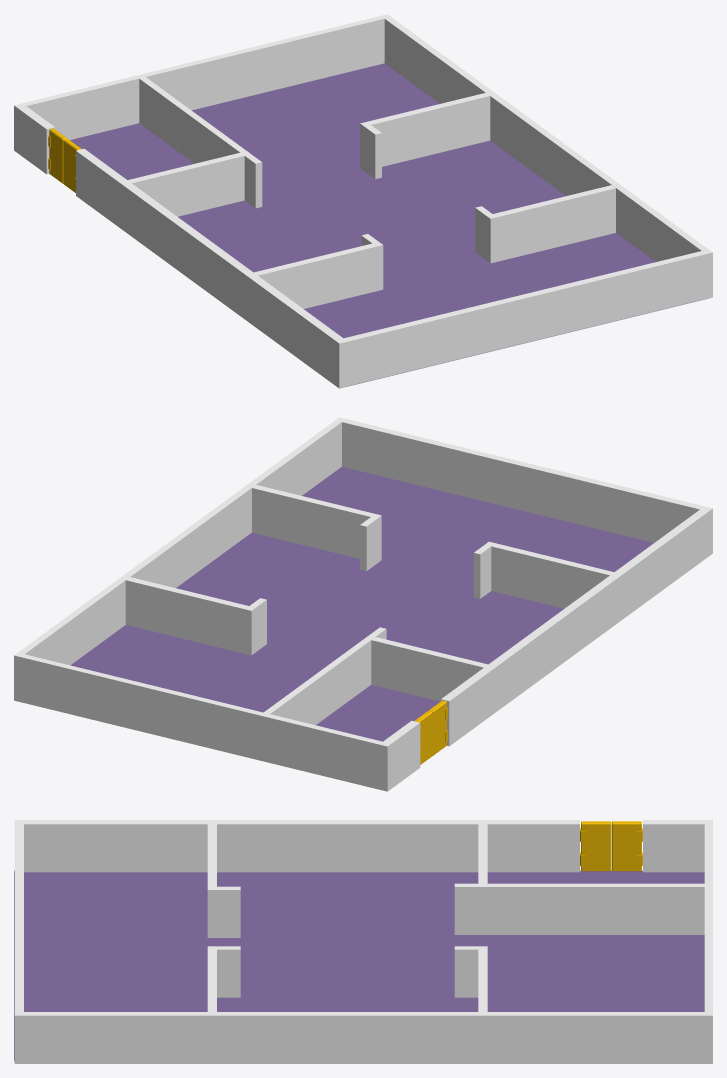
File: maps_66.fbx
3 views of the same model, one above another, from view 1: azimuth 30°, elevation 25°; view 2: azimuth 150°, elevation 25°; view 3: azimuth 270°, elevation 25° (orthographic). The views are drawn at different scales.
Parts seen in each view (by area): view 1: wall_01_08_geo, wall_01_05_geo, wall_01_09_geo, wall_01_07_geo, wall_01_06_geo, wall_01_03_geo17, wall_01_03_geo19, wall_01_03_geo20, wall_01_03_geo16, wall_01_11_geo14, wall_01_07_geo1, wall_01_11_geo13 (+4 smaller); view 2: wall_01_08_geo, wall_01_09_geo, wall_01_05_geo, wall_01_07_geo, wall_01_06_geo, wall_01_03_geo19, wall_01_03_geo17, wall_01_03_geo20, wall_01_03_geo16, wall_01_11_geo14, wall_01_07_geo1, wall_01_11_geo12 (+3 smaller); view 3: wall_01_08_geo, wall_01_06_geo, wall_01_07_geo, wall_01_11_geo14, wall_01_07_geo1, wall_01_05_geo, wall_01_09_geo, polySurface161, polySurface165, wall_01_11_geo10, wall_01_11_geo13, wall_01_11_geo11 (+5 smaller).
Part boxes in pixels (left/top/right/bottom): wall_01_08_geo: left=70, top=63, right=707, bottom=386; wall_01_05_geo: left=343, top=251, right=706, bottom=386; wall_01_09_geo: left=23, top=16, right=384, bottom=139; wall_01_07_geo: left=76, top=148, right=347, bottom=388; wall_01_06_geo: left=381, top=14, right=712, bottom=298; wall_01_03_geo17: left=486, top=185, right=615, bottom=263; wall_01_03_geo19: left=360, top=93, right=490, bottom=170; wall_01_03_geo20: left=254, top=242, right=383, bottom=308; wall_01_03_geo16: left=128, top=151, right=250, bottom=216; wall_01_11_geo14: left=139, top=77, right=246, bottom=163; wall_01_07_geo1: left=14, top=103, right=54, bottom=174; wall_01_11_geo13: left=244, top=154, right=262, bottom=208; wall_01_08_geo: left=70, top=467, right=653, bottom=741; wall_01_09_geo: left=20, top=654, right=382, bottom=789; wall_01_05_geo: left=342, top=419, right=704, bottom=542; wall_01_07_geo: left=441, top=506, right=712, bottom=746; wall_01_06_geo: left=14, top=417, right=345, bottom=701; wall_01_03_geo19: left=125, top=577, right=255, bottom=655; wall_01_03_geo17: left=252, top=485, right=381, bottom=562; wall_01_03_geo20: left=485, top=541, right=614, bottom=608; wall_01_03_geo16: left=365, top=635, right=487, bottom=701; wall_01_11_geo14: left=264, top=638, right=371, bottom=725; wall_01_07_geo1: left=379, top=720, right=420, bottom=791; wall_01_11_geo12: left=473, top=545, right=491, bottom=598; wall_01_08_geo: left=14, top=870, right=704, bottom=1061; wall_01_06_geo: left=14, top=1012, right=712, bottom=1063; wall_01_07_geo: left=14, top=820, right=579, bottom=872; wall_01_11_geo14: left=487, top=883, right=704, bottom=934; wall_01_07_geo1: left=643, top=820, right=712, bottom=872; wall_01_05_geo: left=14, top=824, right=23, bottom=1011; wall_01_09_geo: left=704, top=824, right=712, bottom=1011; polySurface161: left=611, top=821, right=642, bottom=871; polySurface165: left=580, top=821, right=610, bottom=871; wall_01_11_geo10: left=454, top=946, right=478, bottom=997; wall_01_11_geo13: left=454, top=883, right=478, bottom=934; wall_01_11_geo11: left=217, top=946, right=240, bottom=997.
Size of the model in its own units: 76.85 by 8.89 by 116.
2 materials, 2 textured.
